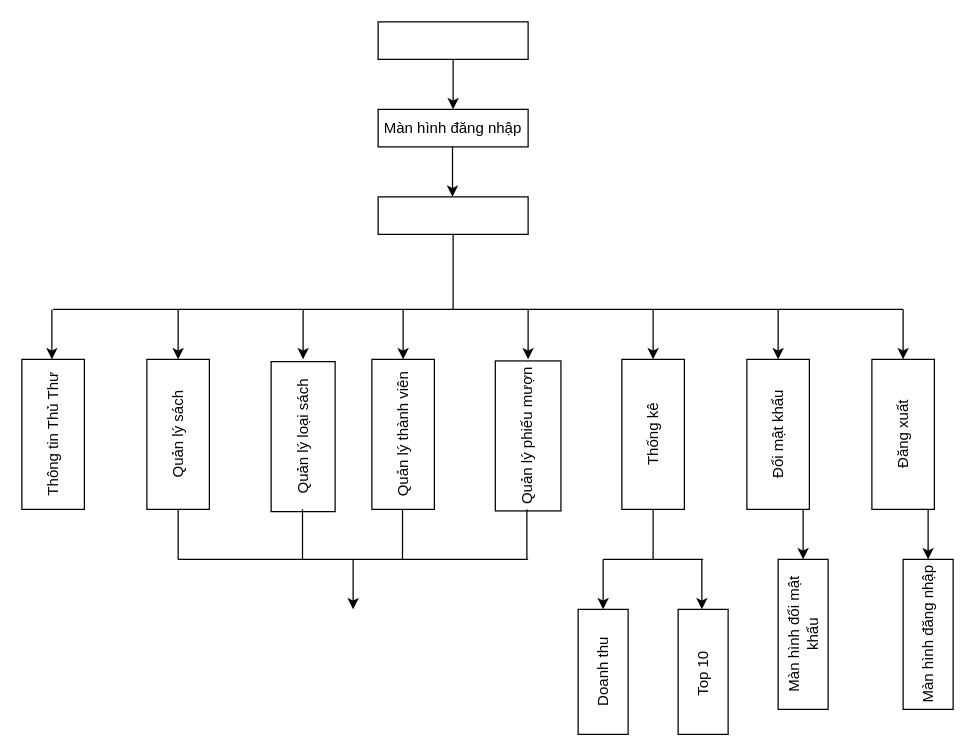
This 975x756 diagram has some shape labels left out. The shapes that lost their labels are listed below. From the top down, each one's centre as x and y in pixels, then its label:
(452,40): Màn hình chào
(452,215): Màn hình chính
